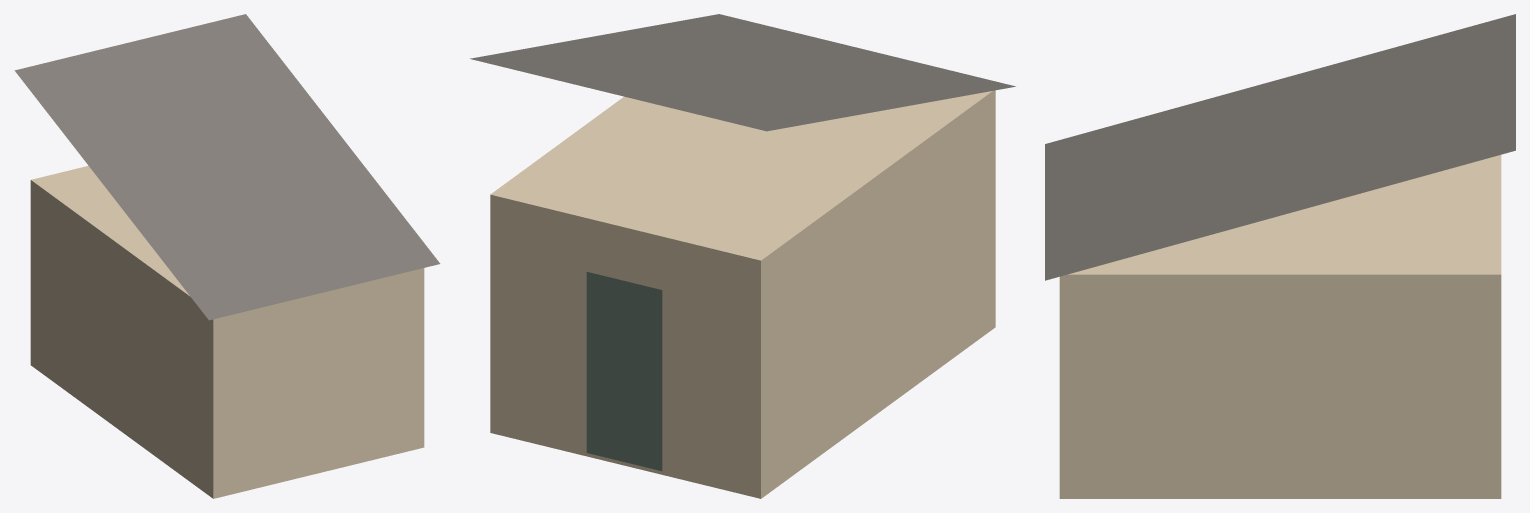
File: recon_1835_north_a4_010__recommended_1835.glb
The picture shows the model from 3 angles, left to right: view 1: azimuth 30°, elevation 25°; view 2: azimuth 150°, elevation 25°; view 3: azimuth 270°, elevation 25°; orthographic projection. The views are drawn at different scales.
Visible parts, largest first — view 1: recon_1835_north_a4_010__recommended_1835; view 2: recon_1835_north_a4_010__recommended_1835; view 3: recon_1835_north_a4_010__recommended_1835.
Part boxes in pixels (left/top/right/bottom): recon_1835_north_a4_010__recommended_1835: left=14, top=14, right=440, bottom=498; recon_1835_north_a4_010__recommended_1835: left=469, top=14, right=1015, bottom=498; recon_1835_north_a4_010__recommended_1835: left=1045, top=14, right=1515, bottom=498.
Bounding box in the file's own units: 2.68 × 3.24 × 3.9.
